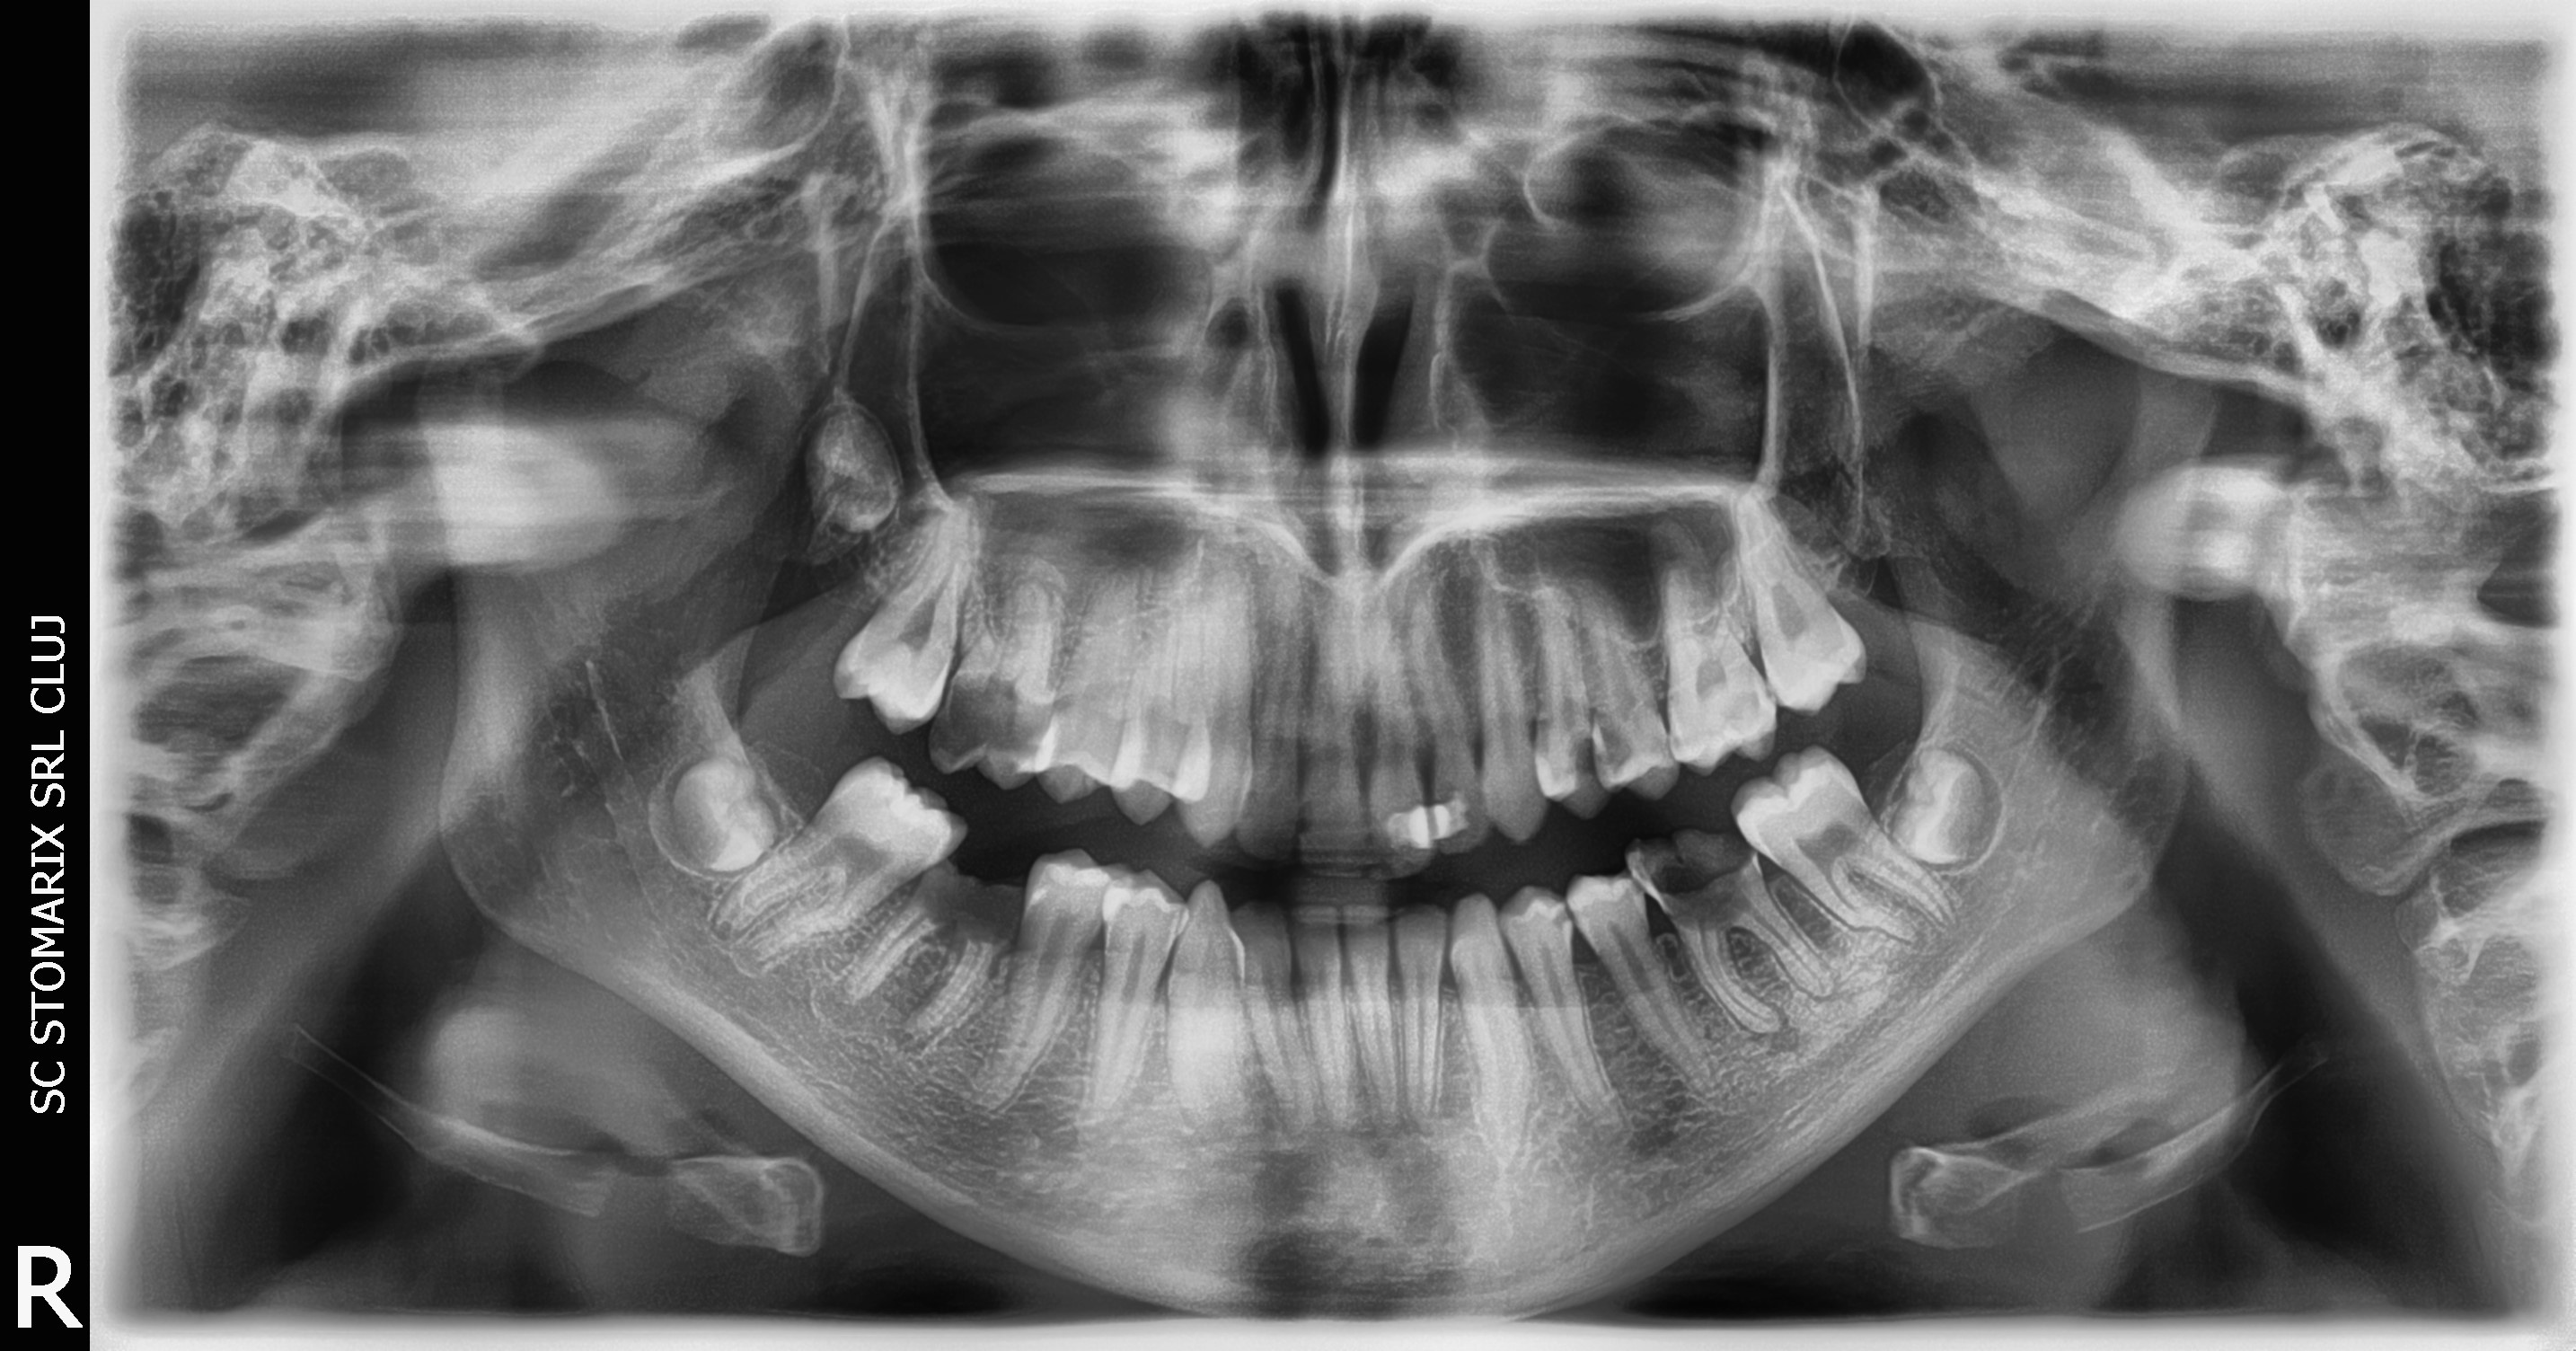API: (1697, 995, 1821, 1073), (780, 976, 906, 1051), (857, 1002, 981, 1077)
CAR: (1617, 802, 1782, 932), (918, 671, 1070, 777), (879, 860, 1031, 954), (1038, 675, 1102, 743), (1712, 676, 1780, 739), (1586, 712, 1636, 792), (1557, 726, 1610, 794), (1281, 796, 1329, 852), (1649, 714, 1688, 756)
IMT: (767, 392, 922, 561), (635, 731, 792, 891), (1883, 726, 2029, 886)
OBT: (1414, 775, 1482, 847), (1370, 801, 1436, 860)
